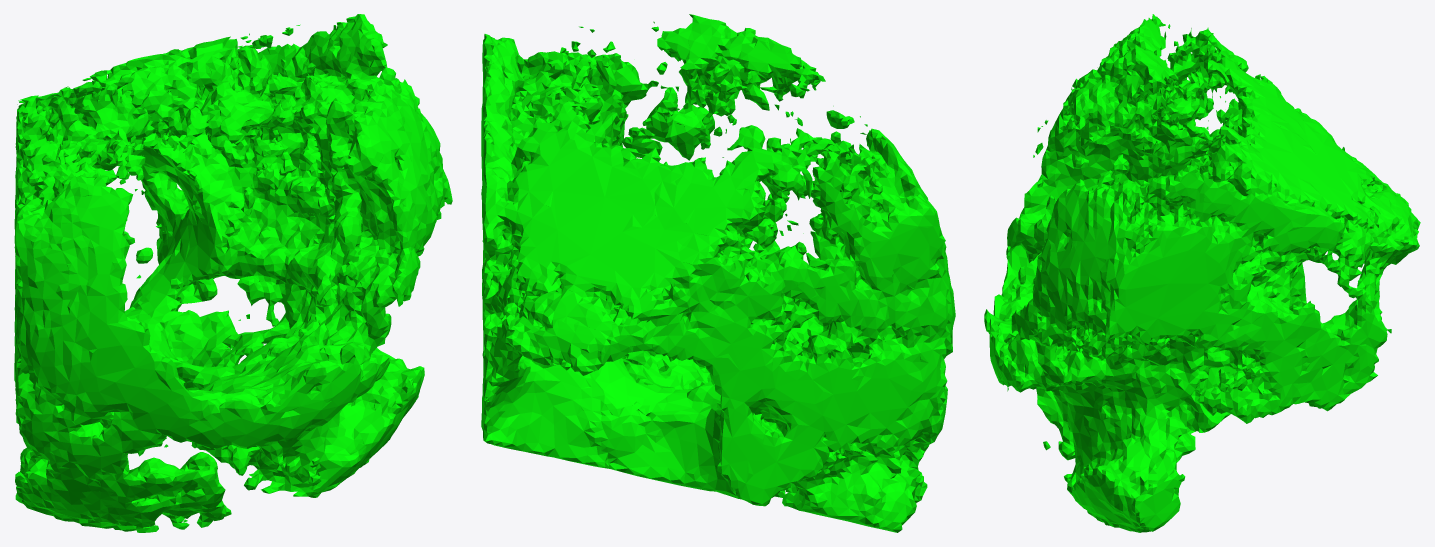
Rendered from B939XXXX-1_base_29.obj.
3 views of the same model, side by side, from view 1: azimuth 30°, elevation 25°; view 2: azimuth 150°, elevation 25°; view 3: azimuth 270°, elevation 25° (orthographic). The views are drawn at different scales.
Parts seen in each view (by area): view 1: 29_base; view 2: 29_base; view 3: 29_base.
Part boxes in pixels (left/top/right/bottom): 29_base: left=14, top=14, right=452, bottom=532; 29_base: left=481, top=14, right=955, bottom=532; 29_base: left=984, top=14, right=1420, bottom=532.
Bounding box in the file's own units: 217 × 218 × 205.
